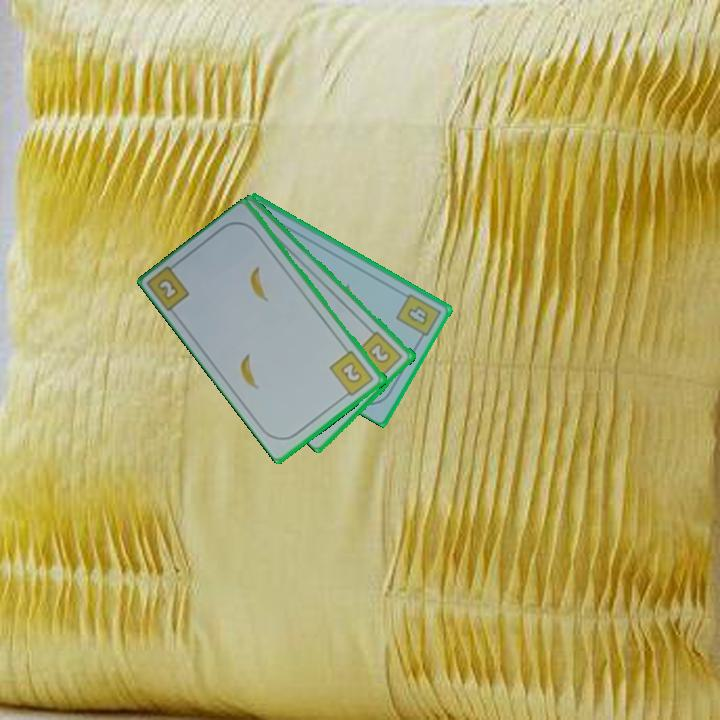2b: (354, 328, 406, 382), (326, 347, 377, 401), (146, 257, 193, 315)
4b: (392, 290, 444, 344)
